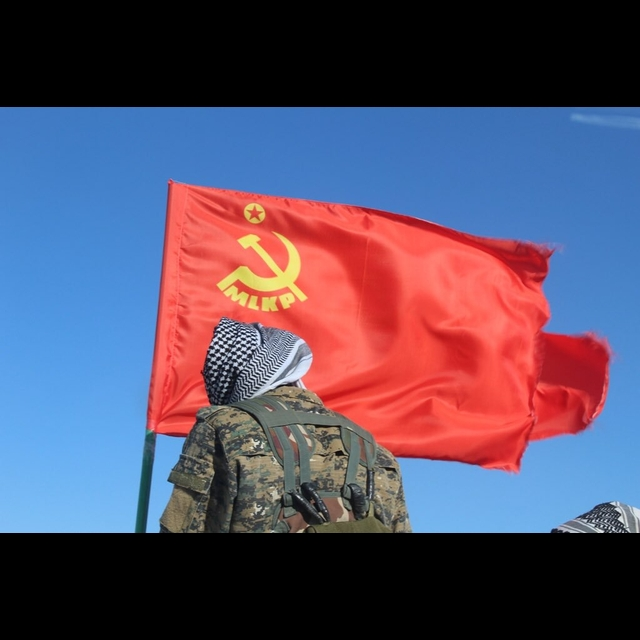MLKP: (206, 200, 320, 314)
